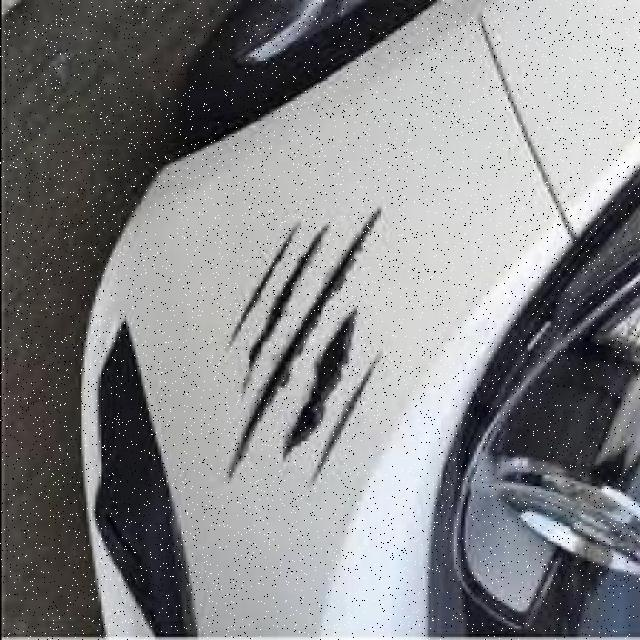damage: (219, 202, 387, 503)
